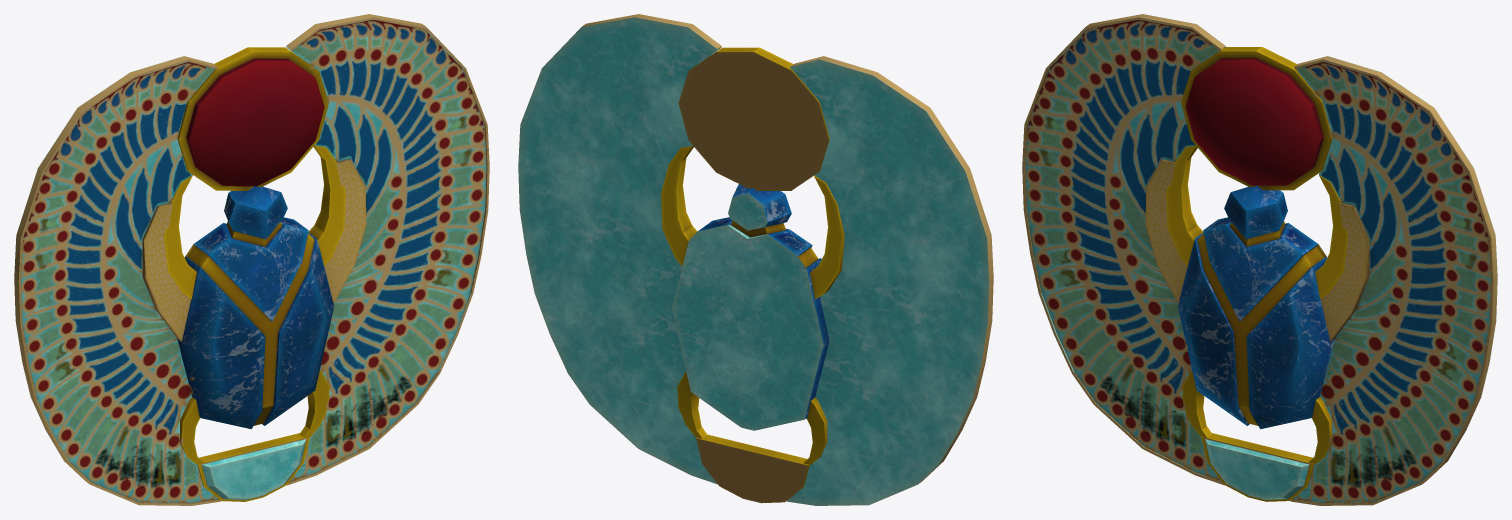
Rendered from Jolary.fbx.
3 views of the same model, side by side, from view 1: azimuth 30°, elevation 25°; view 2: azimuth 150°, elevation 25°; view 3: azimuth 330°, elevation 25° (orthographic).
Parts seen in each view (by area): view 1: g.001, g, g.008, g.002, g.003, g.007, g.006, g.005, g.004; view 2: g.001, g, g.008, g.002, g.003, g.007, g.006, g.005, g.004; view 3: g, g.001, g.008, g.002, g.003, g.006, g.007, g.004, g.005.
Boxes of the visible parts, left/top/right/bottom form: g.001: left=14, top=56, right=221, bottom=505; g: left=286, top=14, right=489, bottom=485; g.008: left=177, top=186, right=334, bottom=429; g.002: left=177, top=47, right=328, bottom=190; g.003: left=197, top=433, right=309, bottom=501; g.007: left=308, top=145, right=345, bottom=266; g.006: left=163, top=175, right=196, bottom=298; g.005: left=299, top=370, right=329, bottom=437; g.004: left=179, top=397, right=203, bottom=464; g.001: left=786, top=56, right=993, bottom=505; g: left=518, top=14, right=721, bottom=484; g.008: left=672, top=184, right=829, bottom=430; g.002: left=678, top=47, right=829, bottom=190; g.003: left=696, top=434, right=809, bottom=503; g.007: left=661, top=146, right=697, bottom=265; g.006: left=810, top=175, right=844, bottom=299; g.005: left=677, top=372, right=707, bottom=438; g.004: left=803, top=397, right=827, bottom=465; g: left=1290, top=56, right=1497, bottom=505; g.001: left=1022, top=14, right=1225, bottom=485; g.008: left=1177, top=186, right=1334, bottom=429; g.002: left=1181, top=47, right=1332, bottom=190; g.003: left=1201, top=433, right=1313, bottom=501; g.006: left=1166, top=145, right=1203, bottom=266; g.007: left=1315, top=175, right=1348, bottom=298; g.004: left=1182, top=370, right=1212, bottom=437; g.005: left=1308, top=397, right=1332, bottom=464.
Bounding box in the file's own units: 192 × 177 × 20.24.
